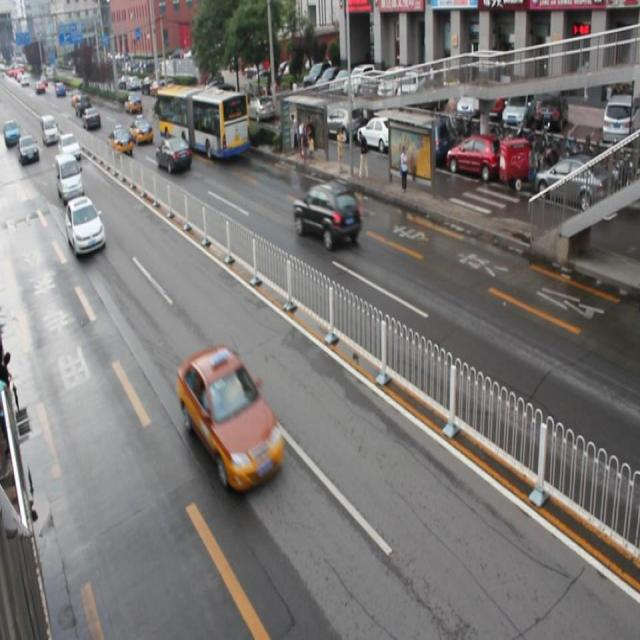car: (175, 346, 284, 491), (293, 182, 359, 246), (65, 194, 105, 256), (155, 134, 190, 174), (108, 123, 134, 156), (129, 112, 152, 143)
truck: (55, 156, 84, 201)
van: (157, 81, 250, 164)
